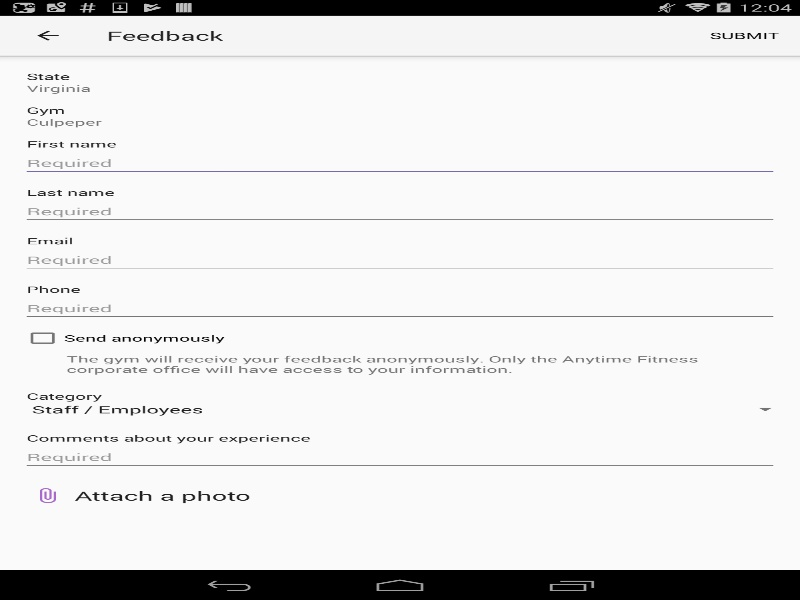Button: (21, 480, 264, 510), (10, 15, 85, 55)
Input: (21, 198, 778, 225), (21, 246, 778, 273), (21, 150, 778, 176), (21, 295, 778, 321), (21, 444, 778, 470)
